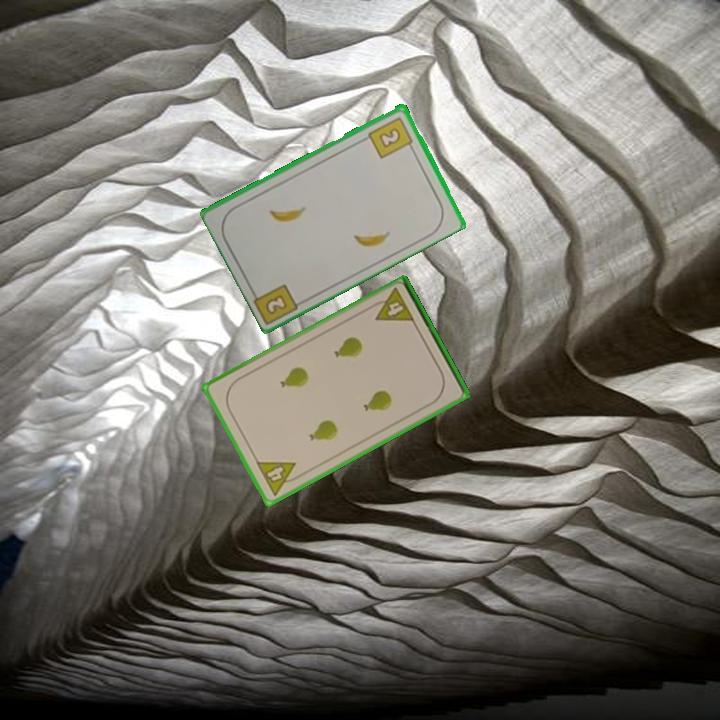2b: (365, 113, 416, 161), (262, 291, 290, 317)
4p: (252, 458, 305, 498), (366, 284, 417, 325)
